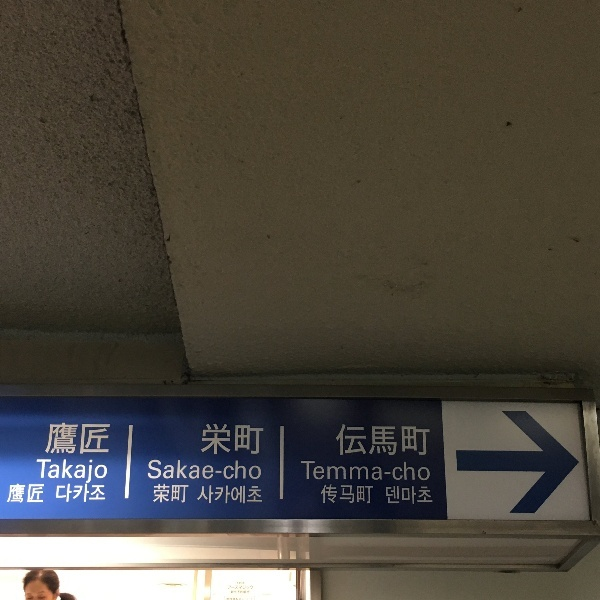text: (65, 423, 80, 456), (81, 423, 96, 456), (209, 423, 224, 456), (225, 423, 240, 456), (241, 423, 256, 456), (337, 424, 352, 456), (353, 424, 368, 456), (369, 424, 384, 456), (385, 424, 400, 456), (401, 424, 416, 456), (50, 423, 64, 456), (97, 423, 110, 456), (417, 424, 430, 456), (49, 459, 64, 484), (65, 459, 80, 484), (81, 459, 96, 484), (17, 483, 32, 504), (161, 460, 176, 480), (177, 460, 192, 480), (193, 460, 208, 480), (209, 460, 224, 480), (225, 460, 240, 480), (241, 460, 256, 480), (321, 484, 336, 504), (337, 484, 352, 504), (353, 484, 368, 504), (305, 461, 320, 481), (321, 461, 336, 481), (337, 461, 352, 481), (353, 461, 368, 481), (369, 461, 384, 481), (385, 461, 400, 481), (401, 461, 416, 481), (417, 486, 433, 504), (161, 484, 176, 503), (65, 483, 80, 502), (81, 483, 96, 502), (37, 459, 48, 484), (97, 459, 108, 484), (209, 486, 224, 504), (225, 486, 240, 504), (241, 486, 256, 504), (401, 486, 416, 504), (417, 461, 430, 481), (33, 483, 45, 504), (386, 486, 400, 504), (257, 423, 264, 456), (177, 484, 189, 503), (149, 460, 160, 480), (198, 486, 208, 504), (97, 483, 106, 502), (203, 423, 208, 456), (10, 483, 16, 504), (154, 484, 160, 503), (58, 483, 64, 502), (257, 486, 263, 504), (369, 484, 374, 504), (257, 460, 261, 480), (301, 461, 304, 481)
